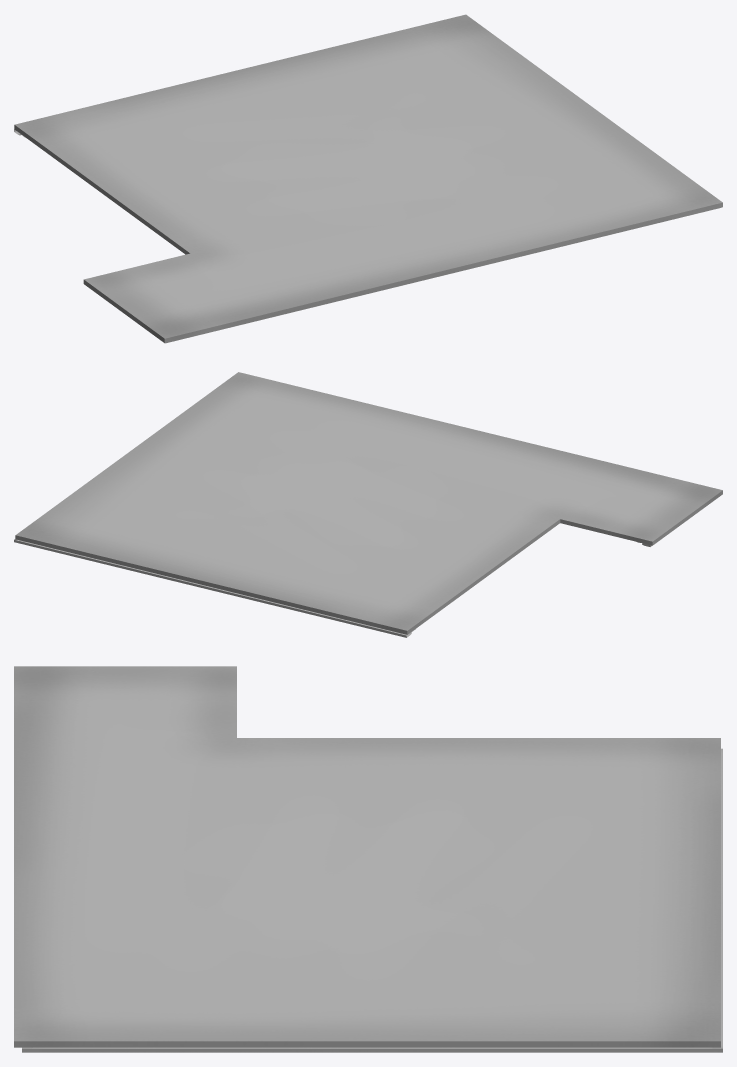
Rendered from Ceiling.fbx.
3 views of the same model, one above another, from view 1: azimuth 30°, elevation 25°; view 2: azimuth 150°, elevation 25°; view 3: azimuth 270°, elevation 25° (orthographic). The views are drawn at different scales.
Parts seen in each view (by area): view 1: ceiling; view 2: ceiling, ceiling_moulding; view 3: ceiling, ceiling_moulding.
Boxes of the visible parts, left/top/right/bottom form: ceiling: left=14, top=14, right=722, bottom=343; ceiling: left=15, top=372, right=722, bottom=634; ceiling_moulding: left=14, top=539, right=651, bottom=637; ceiling: left=14, top=666, right=720, bottom=1047; ceiling_moulding: left=22, top=748, right=722, bottom=1052.
Bounding box in the file's own units: 303 × 3.99 × 242.
